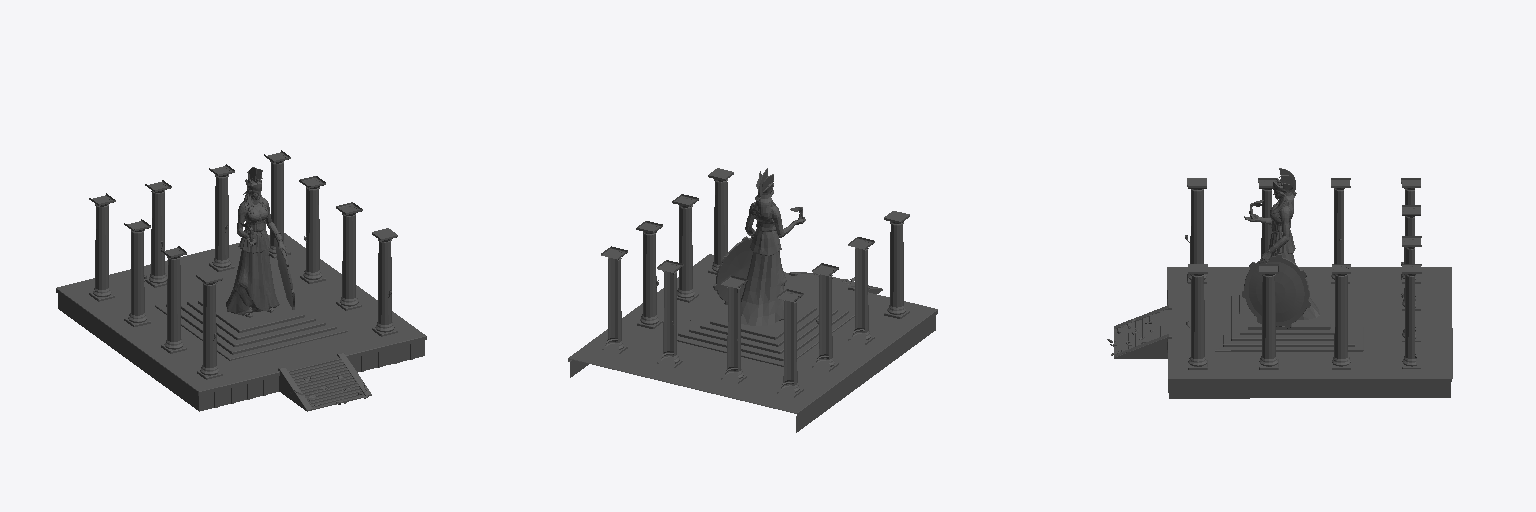
Rendered from athenass.obj.
3 renders of one model, left to right at view 1: azimuth 30°, elevation 25°; view 2: azimuth 150°, elevation 25°; view 3: azimuth 270°, elevation 25°, orthographic.
Size of the model in its own units: 37.35 by 27.27 by 48.78.